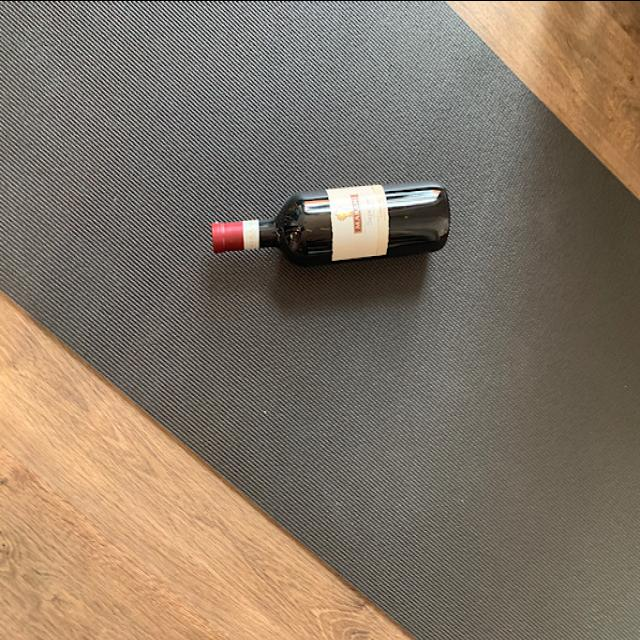litter: (208, 179, 450, 271)
